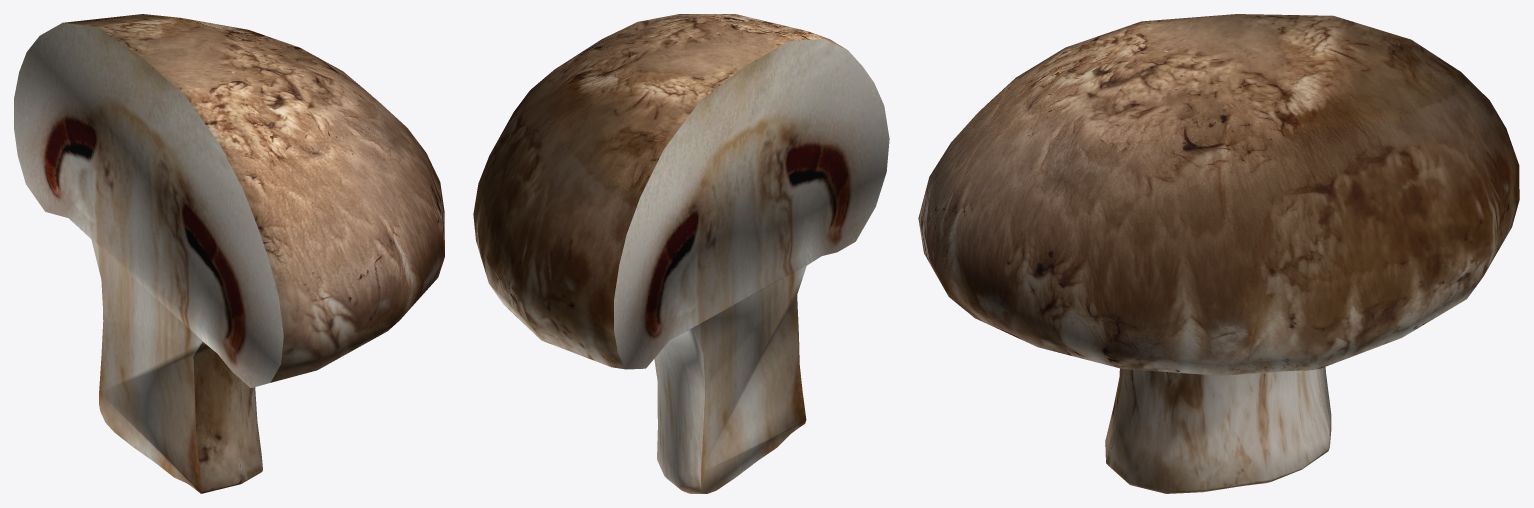
Rendered from Champignon-05.fbx.
3 renders of one model, left to right at view 1: azimuth 30°, elevation 25°; view 2: azimuth 150°, elevation 25°; view 3: azimuth 270°, elevation 25°, orthographic. The views are drawn at different scales.
Parts seen in each view (by area): view 1: Champignon; view 2: Champignon; view 3: Champignon.
Boxes of the visible parts, x1,y1,x2,y2 form: Champignon: (14,14,444,493); Champignon: (473,14,889,493); Champignon: (918,14,1519,493).
Size of the model in its own units: 29.22 by 44.05 by 54.89.
2 materials, 2 textured.
